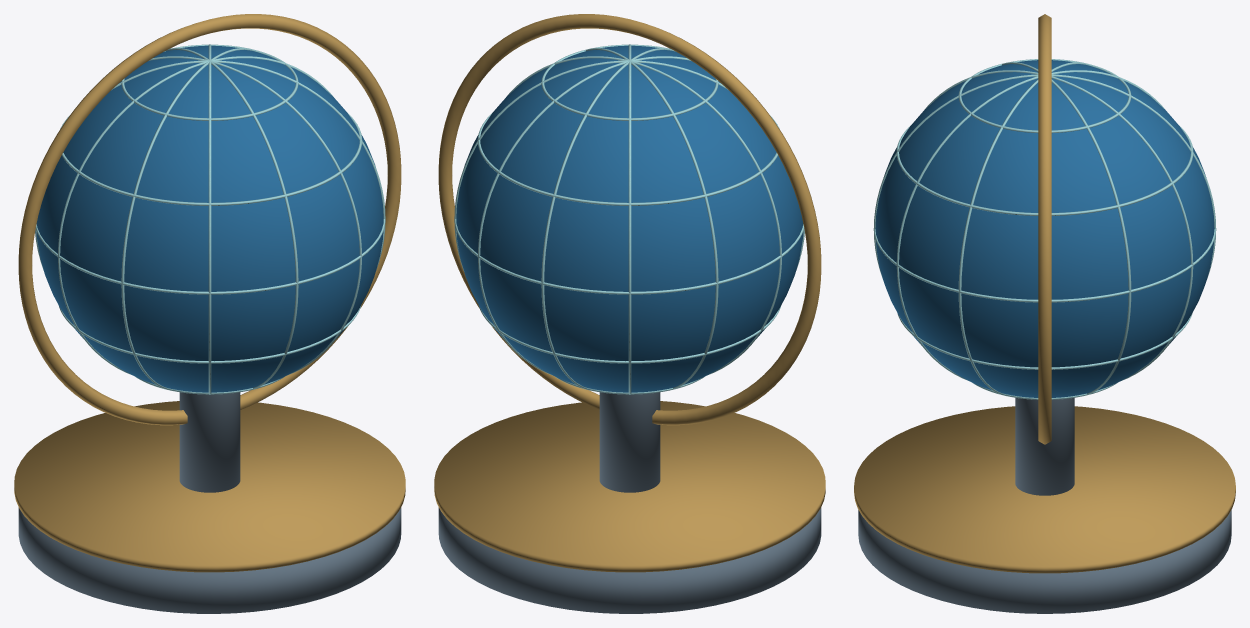
The model's file is earthsky-globe-v1-ultra.glb.
3 renders of one model, left to right at view 1: azimuth 30°, elevation 25°; view 2: azimuth 150°, elevation 25°; view 3: azimuth 270°, elevation 25°, orthographic. The views are drawn at different scales.
Visible parts, largest first — view 1: earth-ocean, brass-trim, weighted-base, meridian-frame, pedestal, longitude, longitude.002, longitude.001, longitude.003, latitude.003, latitude.002, longitude.004 (+3 smaller); view 2: earth-ocean, brass-trim, weighted-base, meridian-frame, pedestal, longitude, longitude.004, longitude.005, longitude.003, latitude.003, latitude.002, longitude.002 (+3 smaller); view 3: earth-ocean, brass-trim, weighted-base, meridian-frame, pedestal, longitude.003, longitude.002, longitude.004, latitude.003, latitude.002, longitude.001, longitude.005 (+2 smaller).
Part boxes in pixels (x1,y1,x2,y2): earth-ocean: (36, 45, 383, 392); brass-trim: (14, 401, 405, 572); weighted-base: (18, 507, 401, 613); meridian-frame: (18, 14, 401, 425); pedestal: (179, 392, 240, 492); longitude: (58, 56, 333, 375); longitude.002: (208, 44, 211, 394); longitude.001: (121, 48, 254, 389); longitude.003: (166, 48, 298, 389); latitude.003: (60, 113, 362, 205); latitude.002: (35, 219, 385, 294); longitude.004: (149, 56, 361, 375); earth-ocean: (456, 45, 803, 392); brass-trim: (434, 401, 825, 572); weighted-base: (438, 507, 821, 613); meridian-frame: (438, 14, 821, 425); pedestal: (599, 392, 660, 492); longitude: (506, 56, 781, 375); longitude.004: (628, 44, 631, 394); longitude.005: (585, 48, 718, 389); longitude.003: (541, 48, 673, 389); latitude.003: (477, 113, 779, 205); latitude.002: (454, 219, 804, 294); longitude.002: (478, 56, 690, 375); earth-ocean: (875, 60, 1214, 397); brass-trim: (854, 406, 1235, 573); weighted-base: (858, 510, 1231, 613); meridian-frame: (1038, 14, 1051, 444); pedestal: (1015, 398, 1074, 495); longitude.003: (873, 74, 1216, 278); longitude.002: (924, 70, 1193, 381); longitude.004: (896, 70, 1165, 381); latitude.003: (896, 124, 1193, 215); latitude.002: (873, 229, 1216, 302); longitude.001: (1002, 62, 1131, 394); longitude.005: (958, 62, 1087, 394).
Bounding box in the file's own units: 0.508 × 0.6515 × 0.45.
